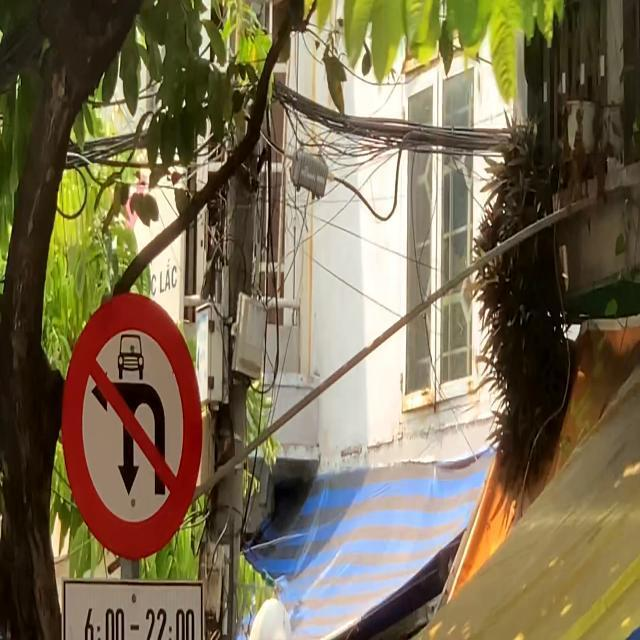124c-cam-re-trai-va-cam-quay-dau-xe: (60, 290, 204, 562)
